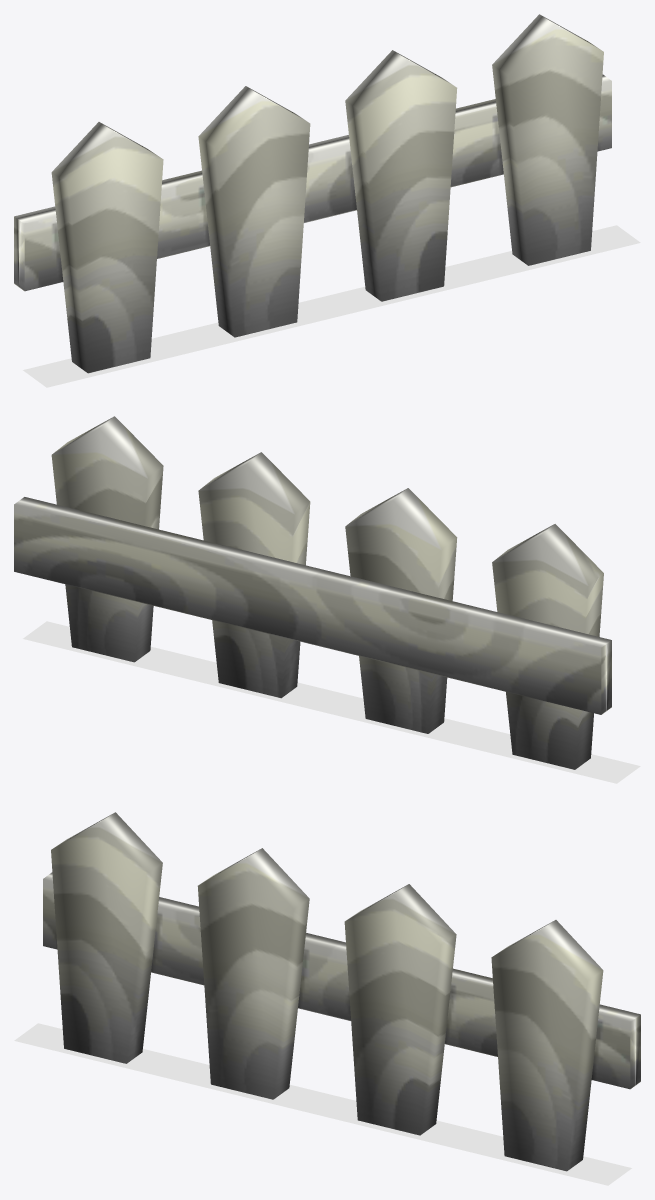
Rendered from fence_01_int.fbx.
3 renders of one model, top to bottom at view 1: azimuth 30°, elevation 25°; view 2: azimuth 150°, elevation 25°; view 3: azimuth 330°, elevation 25°, orthographic.
Visible parts, largest first — view 1: fence_01_int, sdw_square; view 2: fence_01_int, sdw_square; view 3: fence_01_int, sdw_square.
Part boxes in pixels (left/top/right/bottom): fence_01_int: left=14, top=14, right=611, bottom=373; sdw_square: left=23, top=225, right=640, bottom=387; fence_01_int: left=14, top=416, right=611, bottom=769; sdw_square: left=23, top=621, right=640, bottom=783; fence_01_int: left=43, top=812, right=640, bottom=1171; sdw_square: left=14, top=1023, right=631, bottom=1185.
Size of the model in its own units: 0.2023 by 0.0753 by 0.0214.
2 materials, 2 textured.
